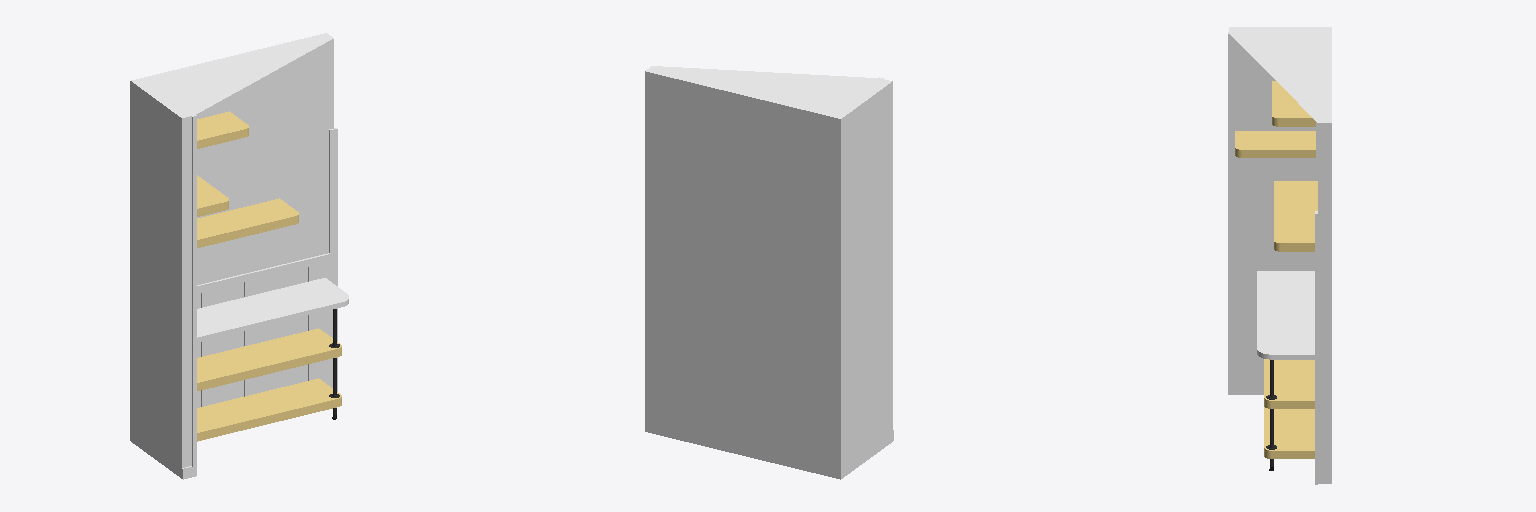
The model's file is GuestRoomShelves.obj.
3 renders of one model, left to right at view 1: azimuth 30°, elevation 25°; view 2: azimuth 150°, elevation 25°; view 3: azimuth 270°, elevation 25°, orthographic.
Parts seen in each view (by area): view 1: Mesh1 Wall1 Group2 Group1 Model, Mesh80 Top_part1 Model, Mesh19 ShelfTop1 Group7 Model, Mesh33 ShelfTop4 Group8 Model, Mesh36 SmallShelf1Top1 Group9 Model, Mesh79 ExistingTrim1 Group13 Model, Mesh61 CornerTrimSide1 Group12 Model, Mesh75 ShiplapShortEnd1 Group12 Model, Mesh63 WescottCap1 Group12 Model, Mesh71 ShiplapShort5 Group12 Model, Mesh70 ShiplapShort4 Group12 Model, Mesh58 SmallShelf3Top2 Group11 Model (+7 smaller); view 2: Mesh1 Wall1 Group2 Group1 Model; view 3: Mesh1 Wall1 Group2 Group1 Model, Mesh62 ShiplapFullEnd1 Group12 Model, Mesh80 Top_part1 Model, Mesh67 ShiplapFull2 Group12 Model, Mesh36 SmallShelf1Top1 Group9 Model, Mesh60 CornerTrimFace1 Group12 Model, Mesh19 ShelfTop1 Group7 Model, Mesh33 ShelfTop4 Group8 Model, Mesh44 SmallShelf2Top1 Group10 Model, Mesh66 ShiplapFull1 Group12 Model, Mesh58 SmallShelf3Top2 Group11 Model, Mesh79 ExistingTrim1 Group13 Model.
Part boxes in pixels (left/top/right/bottom): Mesh1 Wall1 Group2 Group1 Model: left=130, top=33, right=333, bottom=478; Mesh80 Top_part1 Model: left=197, top=278, right=348, bottom=342; Mesh19 ShelfTop1 Group7 Model: left=197, top=378, right=341, bottom=433; Mesh33 ShelfTop4 Group8 Model: left=197, top=328, right=341, bottom=383; Mesh36 SmallShelf1Top1 Group9 Model: left=197, top=198, right=298, bottom=240; Mesh79 ExistingTrim1 Group13 Model: left=329, top=128, right=337, bottom=391; Mesh61 CornerTrimSide1 Group12 Model: left=192, top=115, right=195, bottom=466; Mesh75 ShiplapShortEnd1 Group12 Model: left=308, top=262, right=329, bottom=385; Mesh63 WescottCap1 Group12 Model: left=197, top=253, right=329, bottom=293; Mesh71 ShiplapShort5 Group12 Model: left=201, top=288, right=222, bottom=406; Mesh70 ShiplapShort4 Group12 Model: left=244, top=277, right=265, bottom=396; Mesh58 SmallShelf3Top2 Group11 Model: left=197, top=111, right=248, bottom=141; Mesh1 Wall1 Group2 Group1 Model: left=645, top=66, right=892, bottom=479; Mesh1 Wall1 Group2 Group1 Model: left=1229, top=27, right=1331, bottom=483; Mesh62 ShiplapFullEnd1 Group12 Model: left=1234, top=33, right=1257, bottom=383; Mesh80 Top_part1 Model: left=1257, top=271, right=1314, bottom=359; Mesh67 ShiplapFull2 Group12 Model: left=1258, top=63, right=1282, bottom=383; Mesh36 SmallShelf1Top1 Group9 Model: left=1274, top=181, right=1317, bottom=244; Mesh60 CornerTrimFace1 Group12 Model: left=1228, top=33, right=1233, bottom=383; Mesh19 ShelfTop1 Group7 Model: left=1264, top=407, right=1314, bottom=451; Mesh33 ShelfTop4 Group8 Model: left=1264, top=359, right=1314, bottom=401; Mesh44 SmallShelf2Top1 Group10 Model: left=1235, top=131, right=1315, bottom=150; Mesh66 ShiplapFull1 Group12 Model: left=1283, top=127, right=1307, bottom=270; Mesh58 SmallShelf3Top2 Group11 Model: left=1272, top=81, right=1313, bottom=119; Mesh79 ExistingTrim1 Group13 Model: left=1315, top=211, right=1317, bottom=484.
Bounding box in the file's own units: 62.25 × 108 × 28.5.